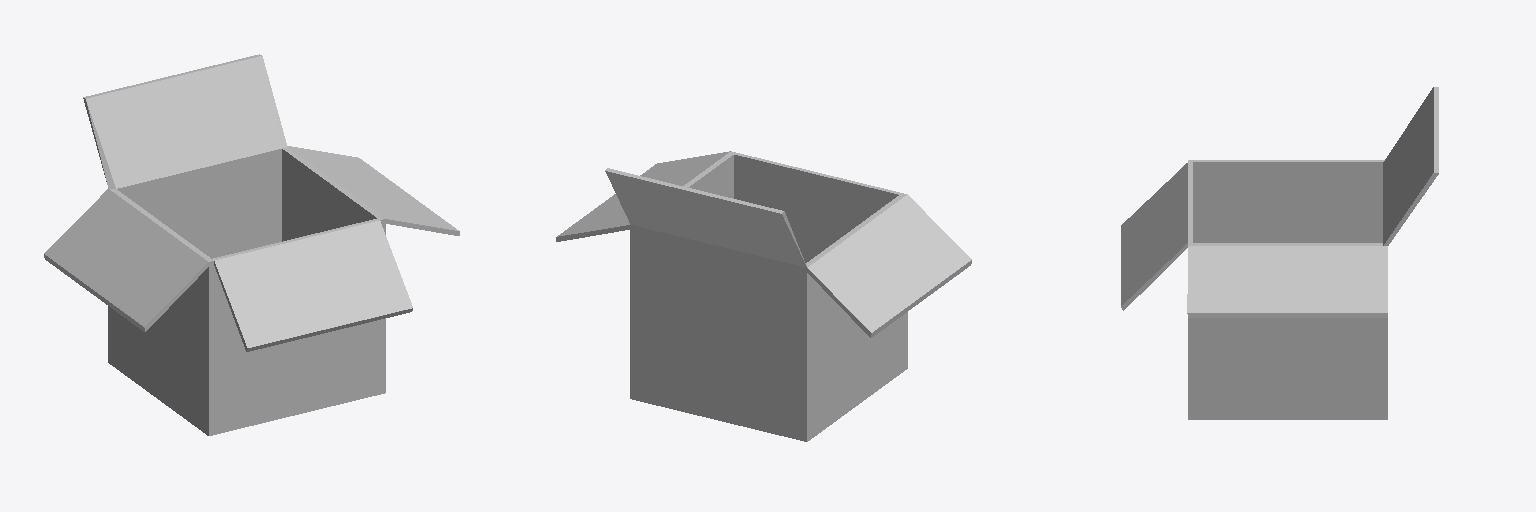
Rendered from Gift_box_22.obj.
3 renders of one model, left to right at view 1: azimuth 30°, elevation 25°; view 2: azimuth 150°, elevation 25°; view 3: azimuth 270°, elevation 25°, orthographic.
Parts seen in each view (by area): view 1: gift_box_22 Gift_box; view 2: gift_box_22 Gift_box; view 3: gift_box_22 Gift_box.
Part boxes in pixels (bbox=[...]): gift_box_22 Gift_box: bbox=[44, 54, 459, 435]; gift_box_22 Gift_box: bbox=[556, 151, 971, 441]; gift_box_22 Gift_box: bbox=[1121, 87, 1438, 419].
Bounding box in the file's own units: 8.77 × 6.58 × 7.67.